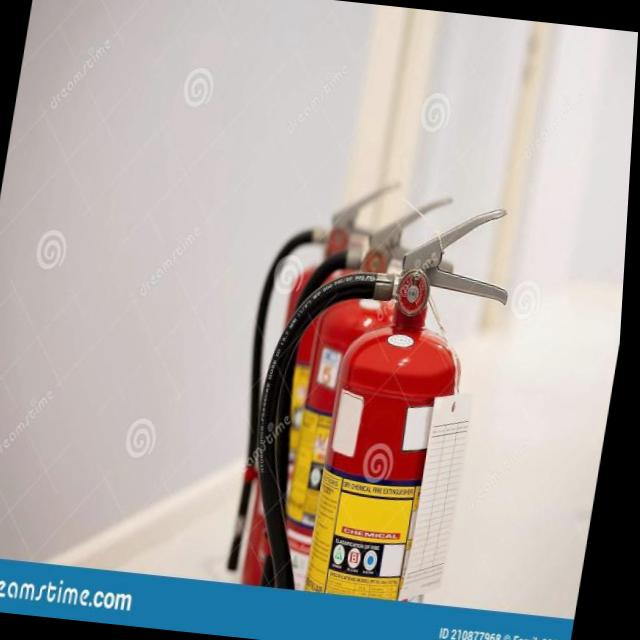FireExtinguisher: (233, 182, 529, 608), (248, 178, 472, 602), (216, 164, 424, 589)
